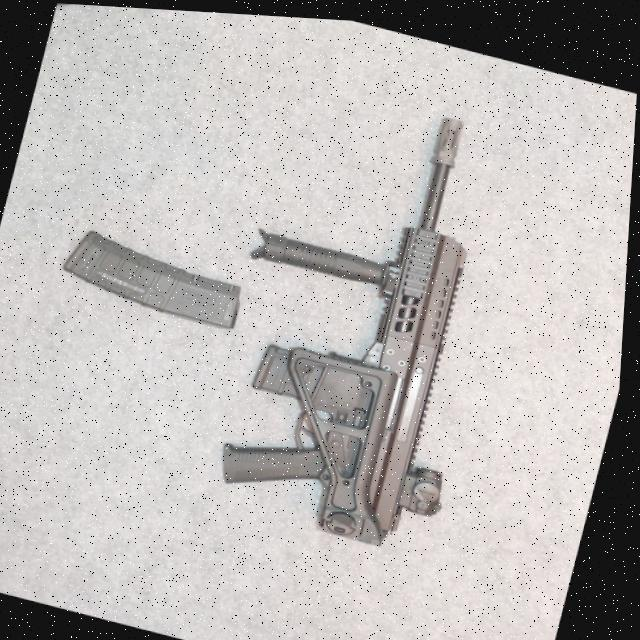firearm: (212, 74, 540, 554)
